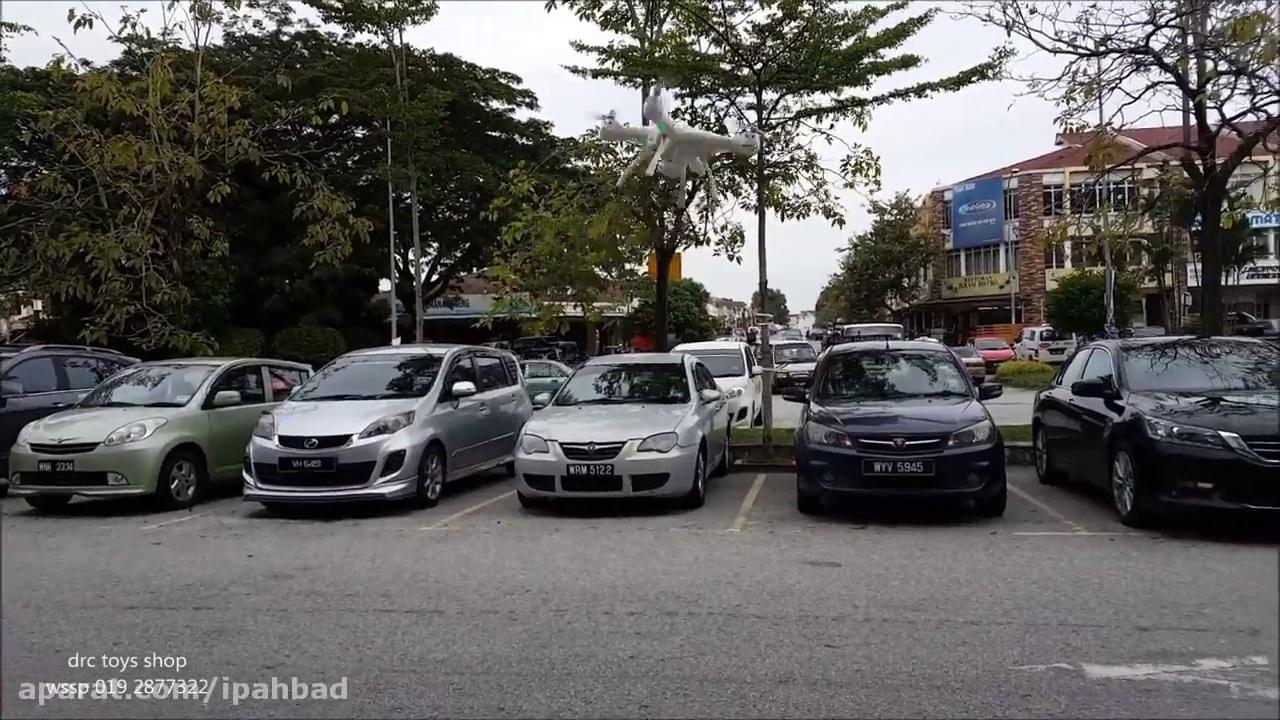drone: (591, 70, 767, 210)
